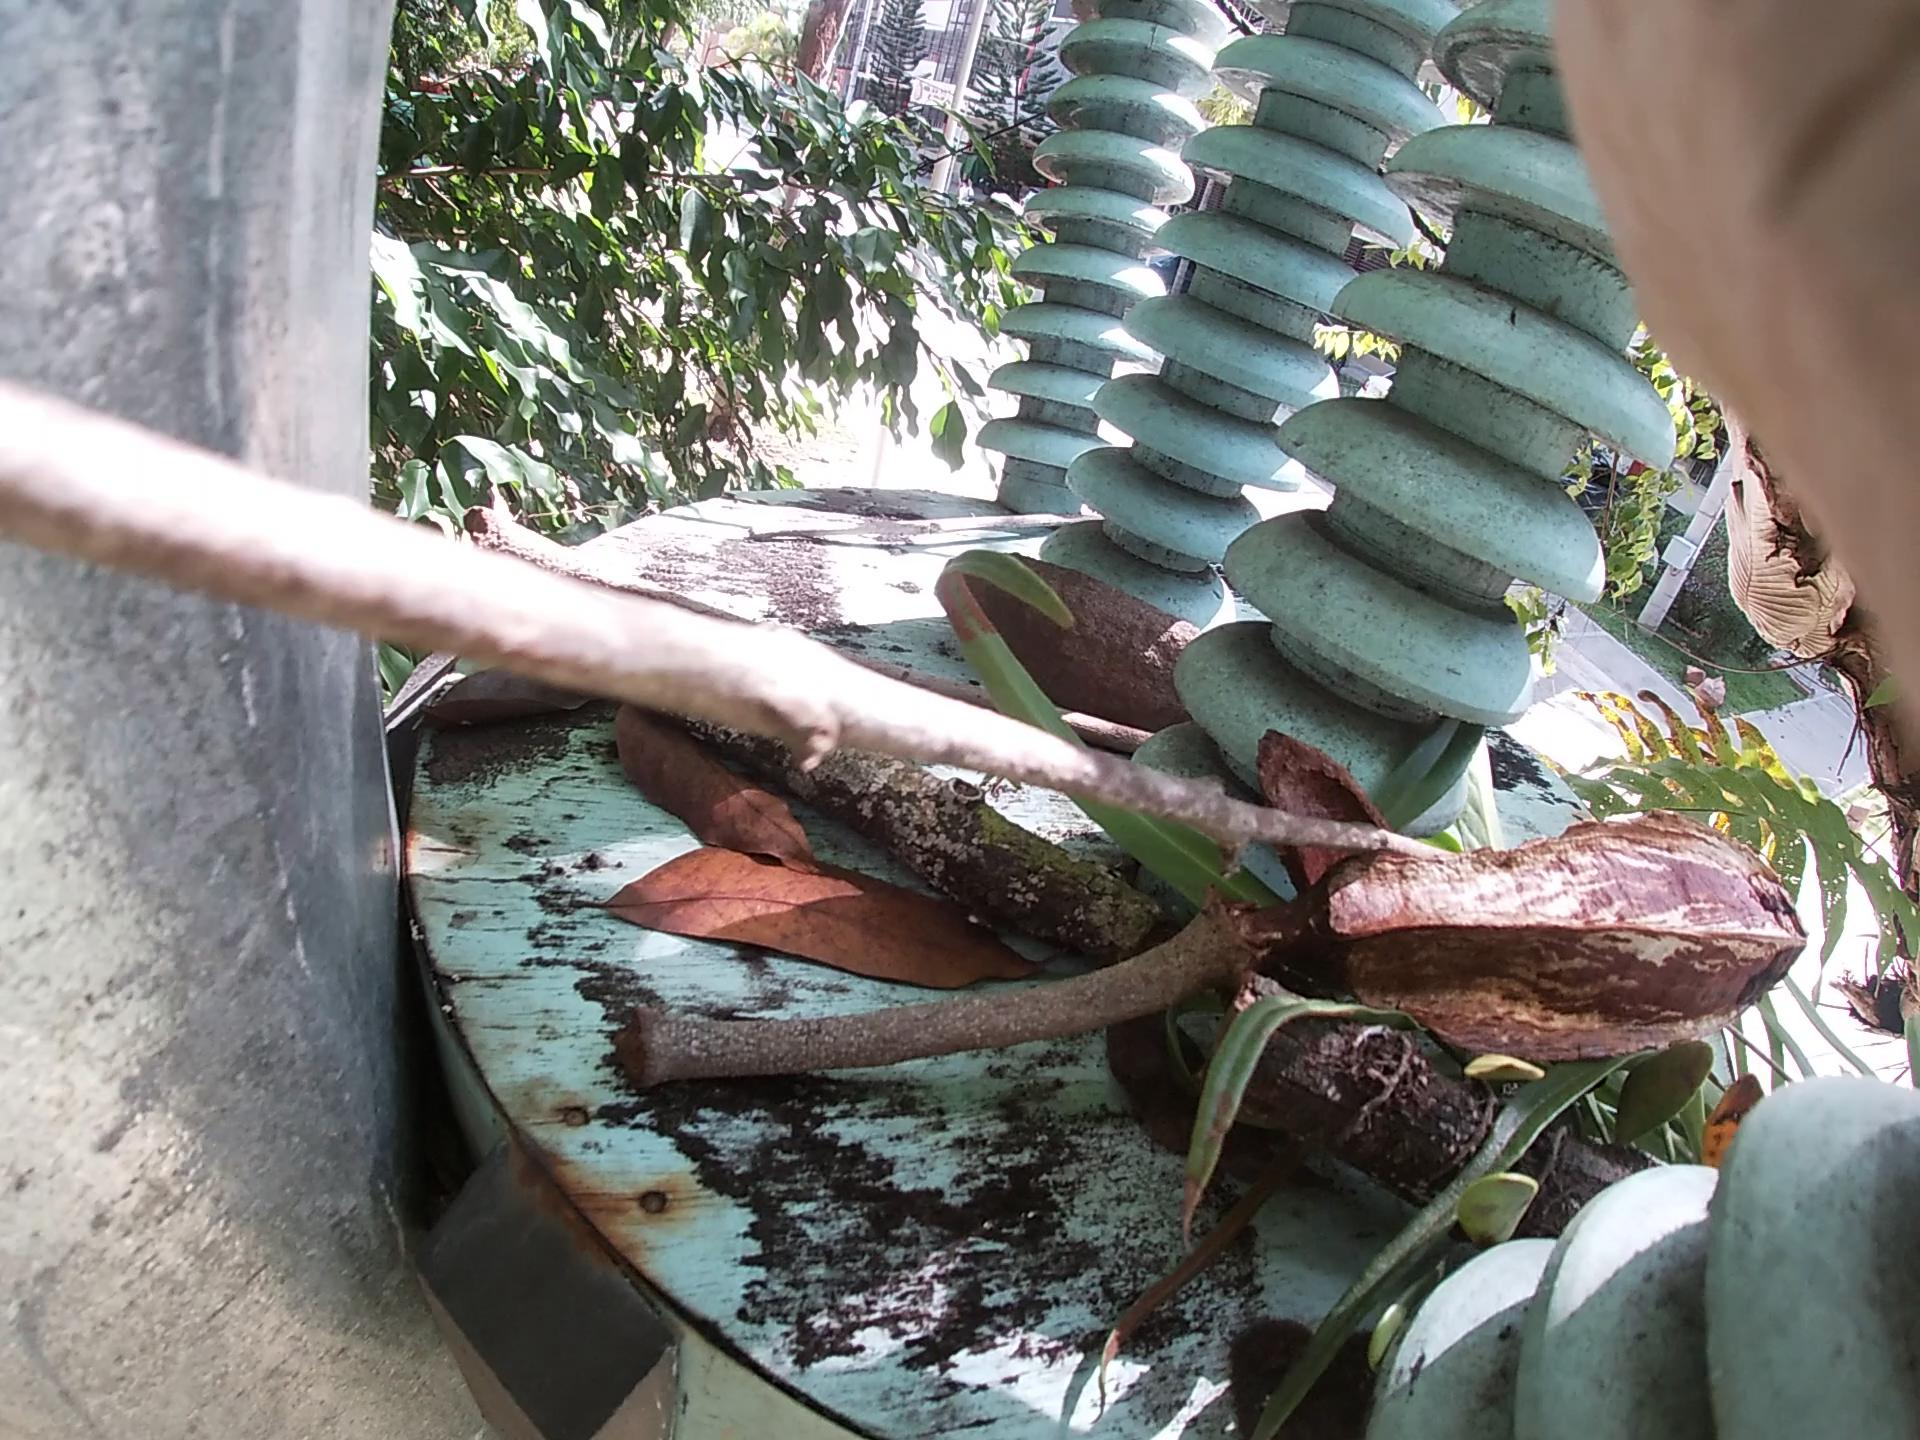branch with leaves: (475, 489, 1637, 1209)
leaf: (525, 697, 968, 976)
mahogany fruit: (1279, 773, 1844, 1050), (915, 493, 1379, 756), (1217, 703, 1403, 864)
tree branch: (122, 393, 1503, 870), (452, 489, 1161, 737), (632, 909, 1284, 1041), (745, 526, 1141, 531)
